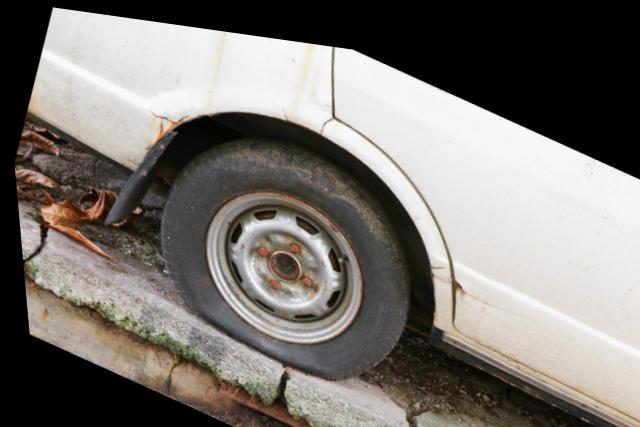tire flat: (155, 135, 408, 372)
